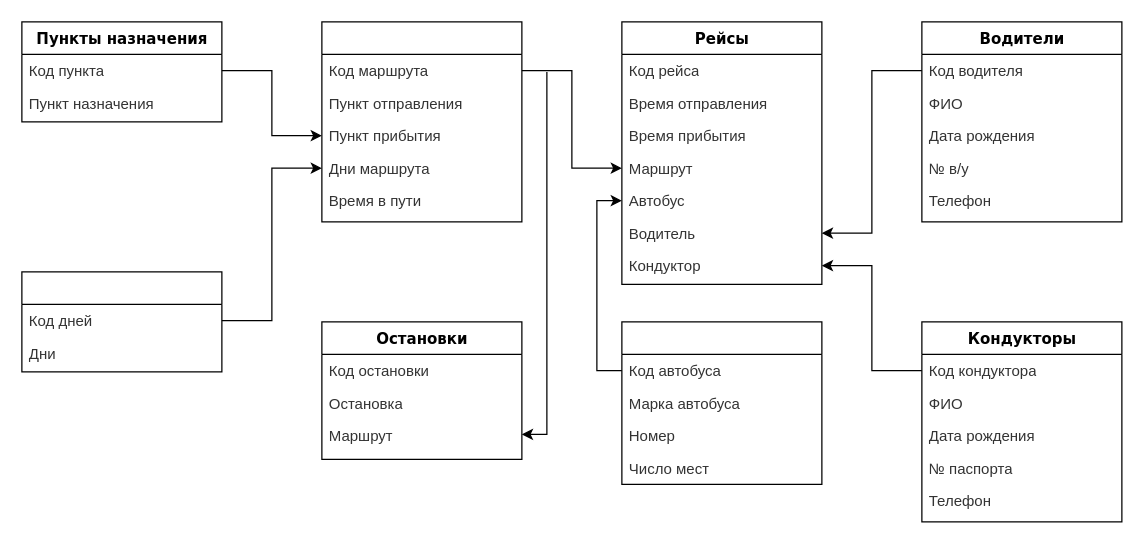
This 1144x544 diagram has some shape labels left out. Here are the shapes that lost their labels. From the top down, the box of each, then its label:
(321, 21, 522, 222): Маршруты
(21, 271, 222, 372): Дни движения
(621, 321, 822, 484): Автобусы
